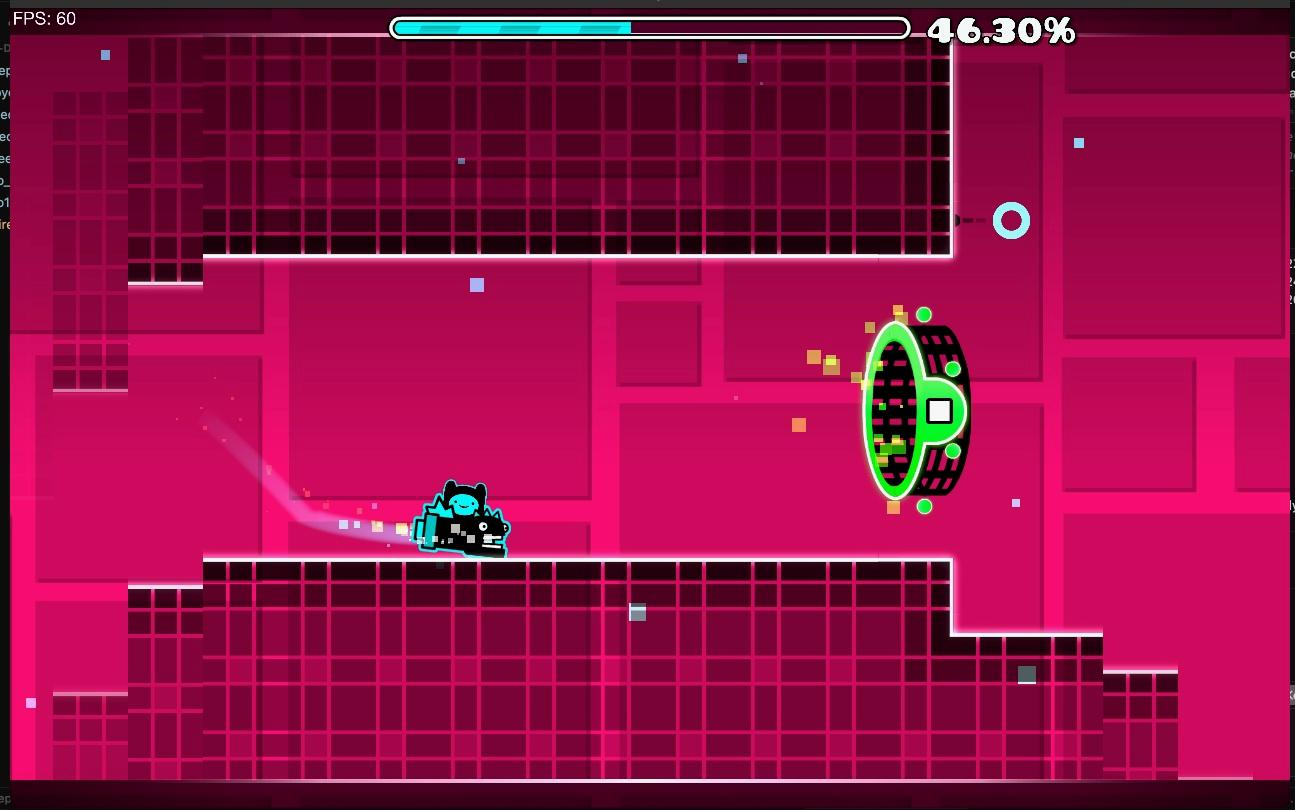block: (204, 561, 949, 776)
portal: (861, 307, 972, 513)
spaceship: (411, 480, 510, 557)
